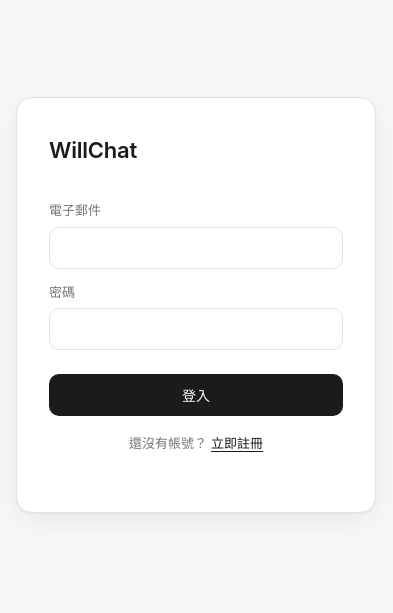
Test case: opens registration and returns to login
Click the link "立即註冊" at (237, 443), box [211,435,263,451]
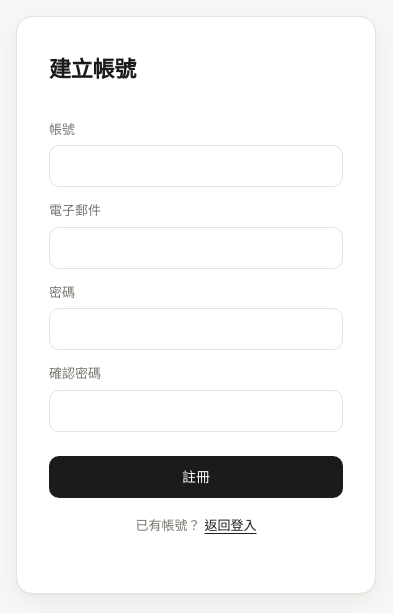
Expected: the heading "建立帳號" is shown, [49,56,136,82]
Click the link "返回登入" at (230, 525), box [204,517,256,533]
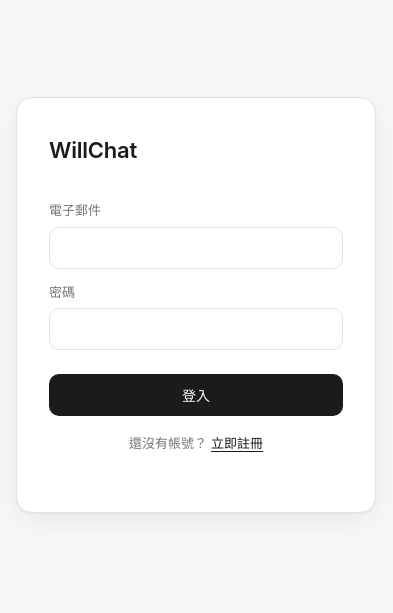
Expected: the button "登入" is shown, [49,374,343,416]
